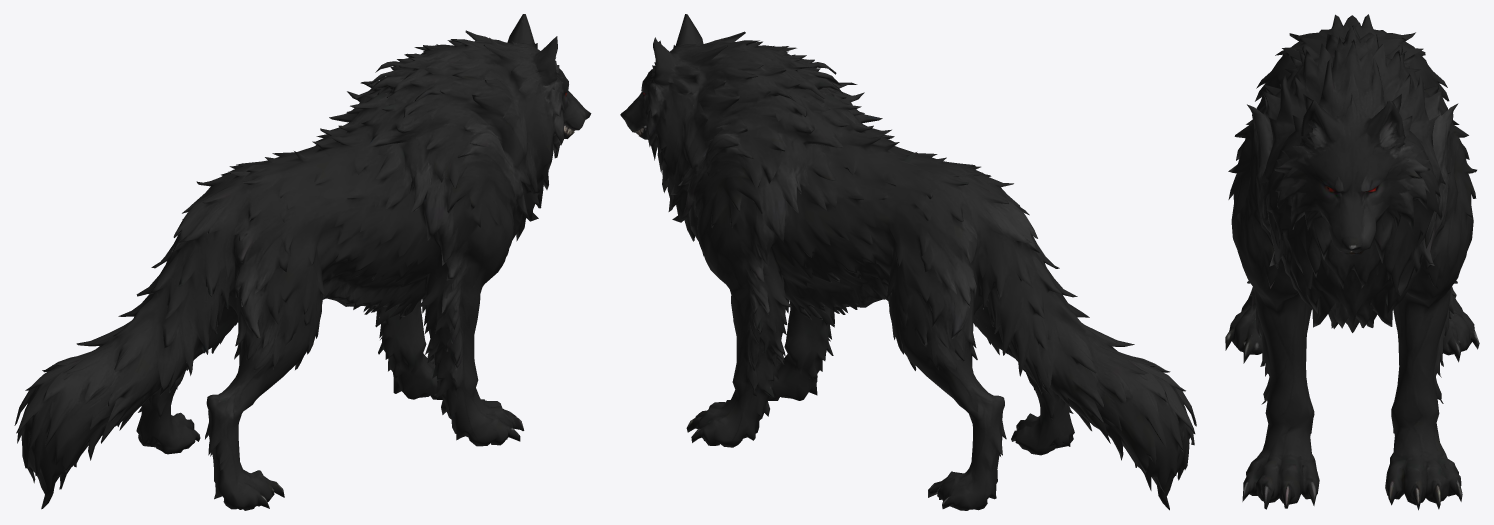
The picture shows the model from 3 angles, left to right: view 1: azimuth 30°, elevation 25°; view 2: azimuth 150°, elevation 25°; view 3: azimuth 270°, elevation 25°; orthographic projection. The views are drawn at different scales.
Visible parts, largest first — view 1: tripo_node_a83c1202-986c-461c-8d4e-0527ca7a4b6d; view 2: tripo_node_a83c1202-986c-461c-8d4e-0527ca7a4b6d; view 3: tripo_node_a83c1202-986c-461c-8d4e-0527ca7a4b6d.
Part boxes in pixels (left/top/right/bottom): tripo_node_a83c1202-986c-461c-8d4e-0527ca7a4b6d: left=14, top=14, right=591, bottom=510; tripo_node_a83c1202-986c-461c-8d4e-0527ca7a4b6d: left=620, top=14, right=1196, bottom=510; tripo_node_a83c1202-986c-461c-8d4e-0527ca7a4b6d: left=1225, top=14, right=1479, bottom=510.
Size of the model in its own units: 0.9863 by 0.6177 by 0.3149.
1 material, 1 textured.
